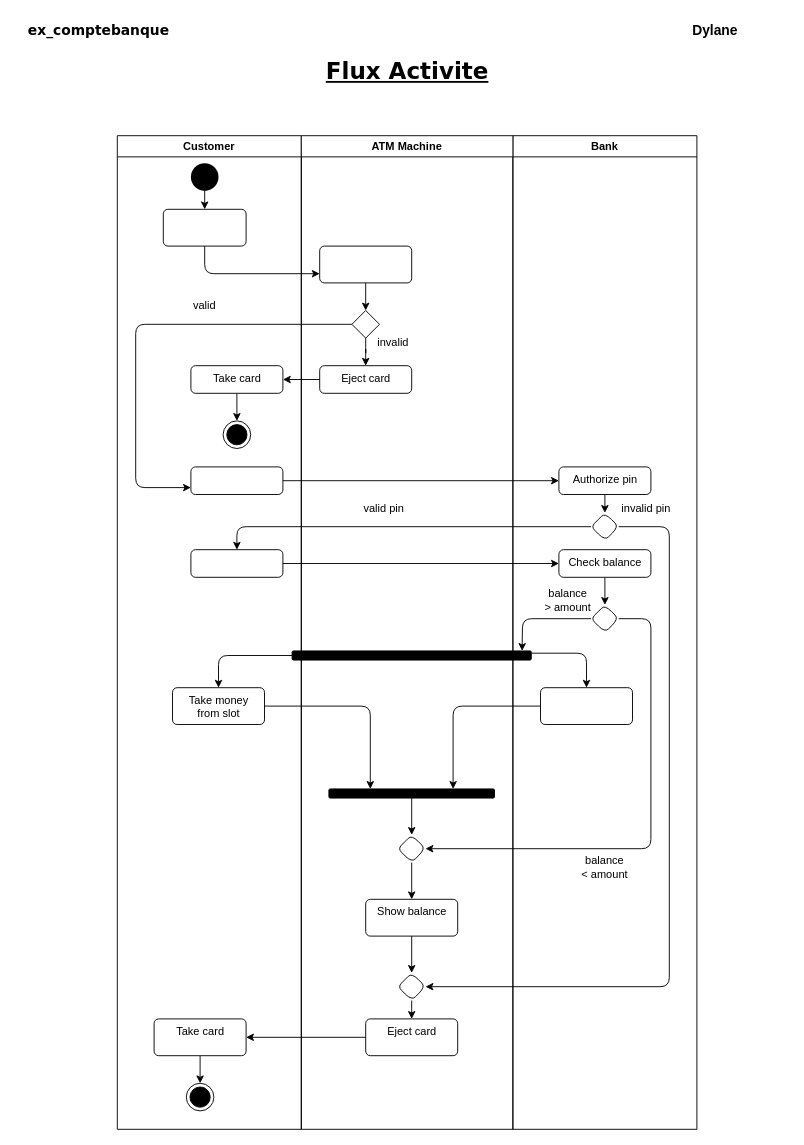
Some shapes in this 804 by 1145 pixel diagram are drawn without their labels. Here are the shapes that lost their labels. From the top down, the centre of each, then its label:
At (204,227): "Insert ATM card".
At (365,264): "Validate ATM card".
At (236,480): "Enter pin".
At (236,563): "Enter amount".
At (586,705): "Debit account".
